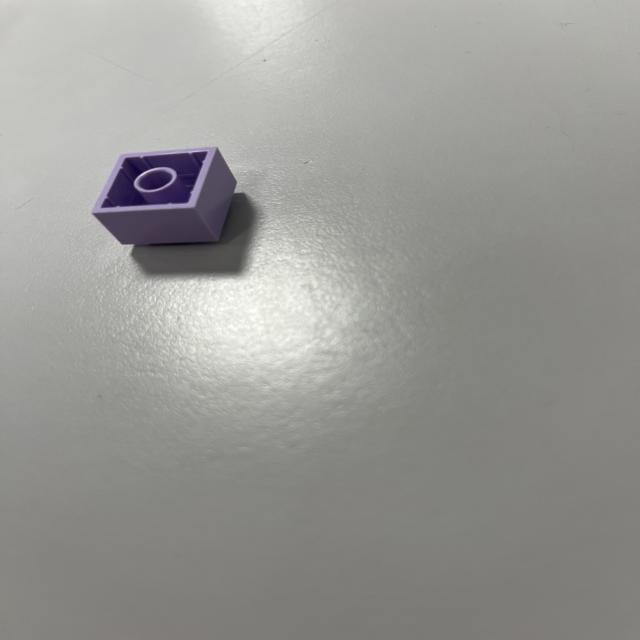C2x2x1: (87, 145, 246, 250)
